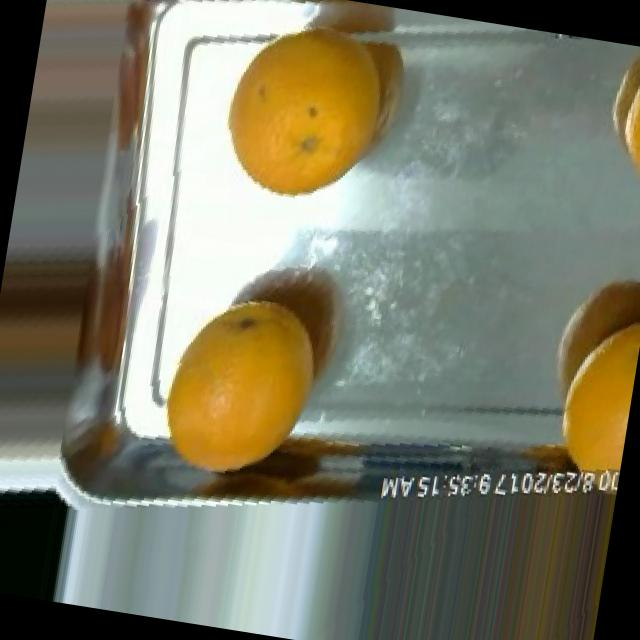Fruit: (201, 0, 439, 233), (143, 268, 354, 510), (525, 279, 640, 497), (0, 458, 98, 605), (586, 44, 640, 210)
